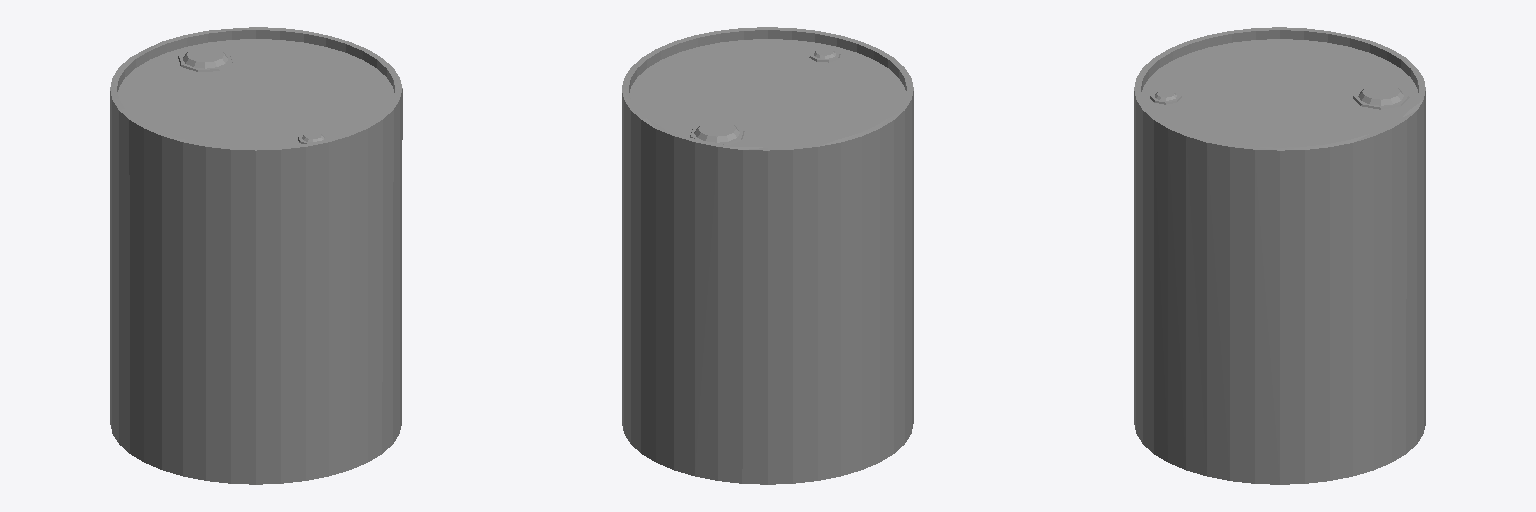
The model's file is barrel.obj.
3 views of the same model, side by side, from view 1: azimuth 30°, elevation 25°; view 2: azimuth 150°, elevation 25°; view 3: azimuth 270°, elevation 25° (orthographic).
Size of the model in its own units: 1.66 by 2.1 by 1.66.